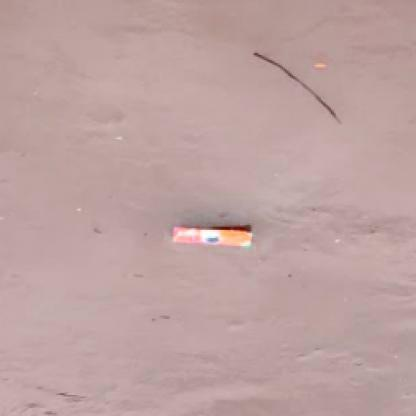Trash: (168, 226, 255, 251)
